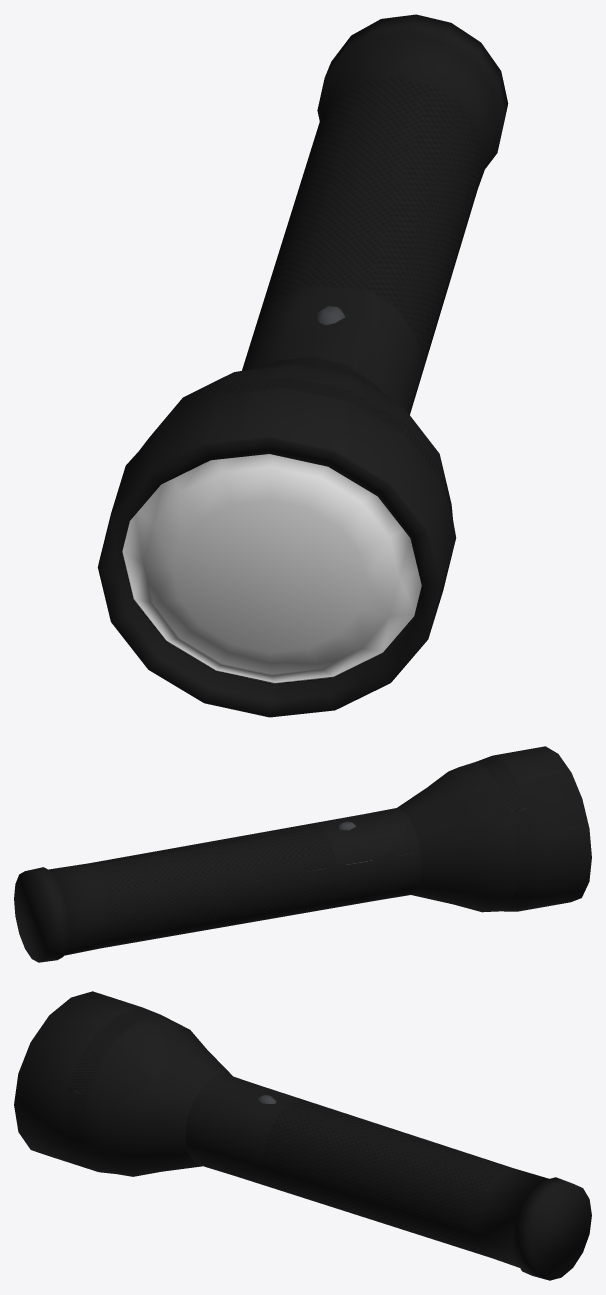
The model's file is flashlight.fbx.
3 renders of one model, top to bottom at view 1: azimuth 30°, elevation 25°; view 2: azimuth 150°, elevation 25°; view 3: azimuth 270°, elevation 25°, orthographic. The views are drawn at different scales.
Visible parts, largest first — view 1: Flashlight; view 2: Flashlight; view 3: Flashlight.
Part boxes in pixels (x1=…): Flashlight: x1=97, y1=14, x2=508, y2=717; Flashlight: x1=14, y1=746, x2=591, y2=962; Flashlight: x1=14, y1=991, x2=591, y2=1280.
Bounding box in the file's own units: 441 × 152 × 521.
Materials: 2 (1 with a texture image).
